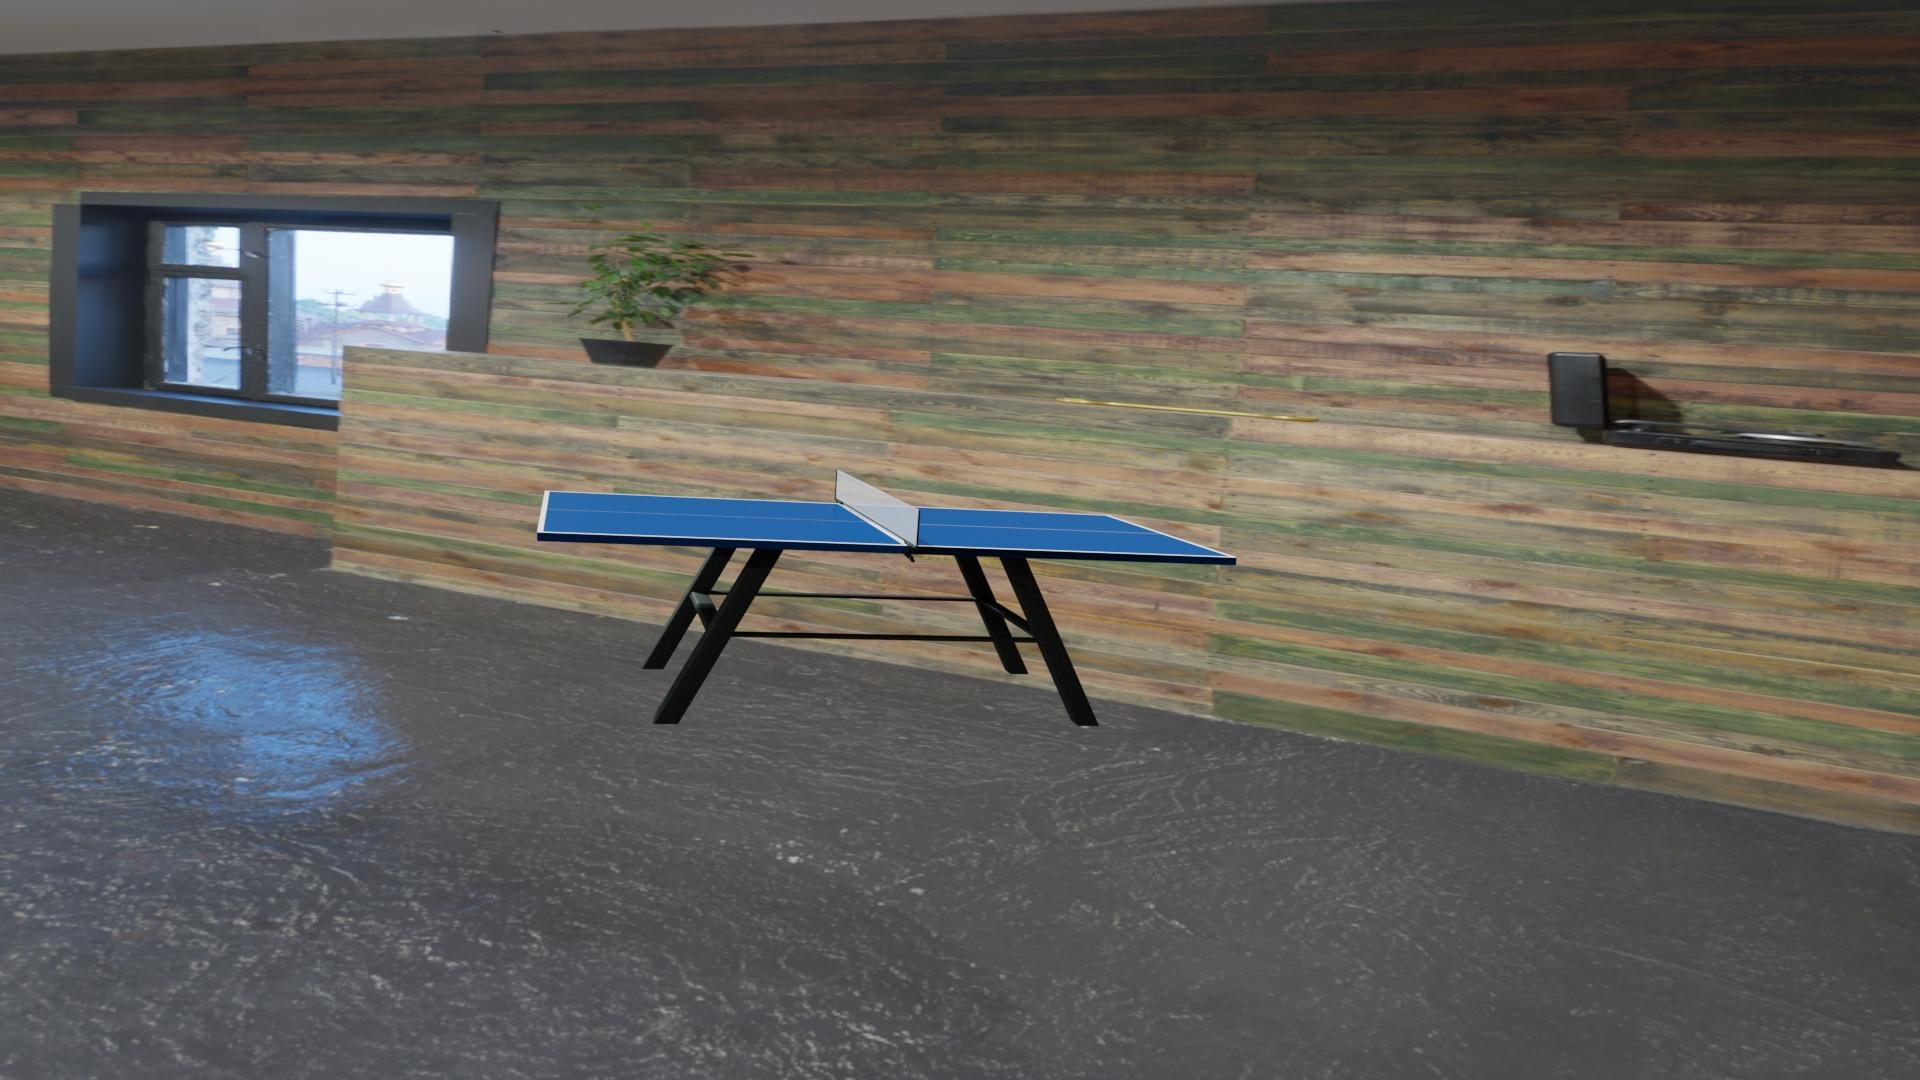table: (543, 492, 1230, 556)
